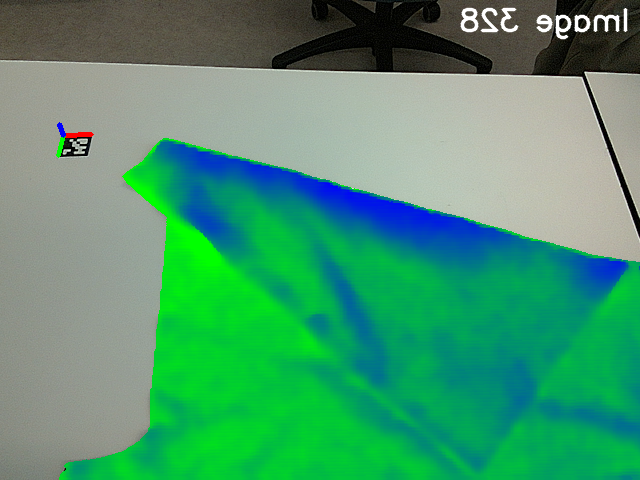V: (440, 431, 519, 478)
